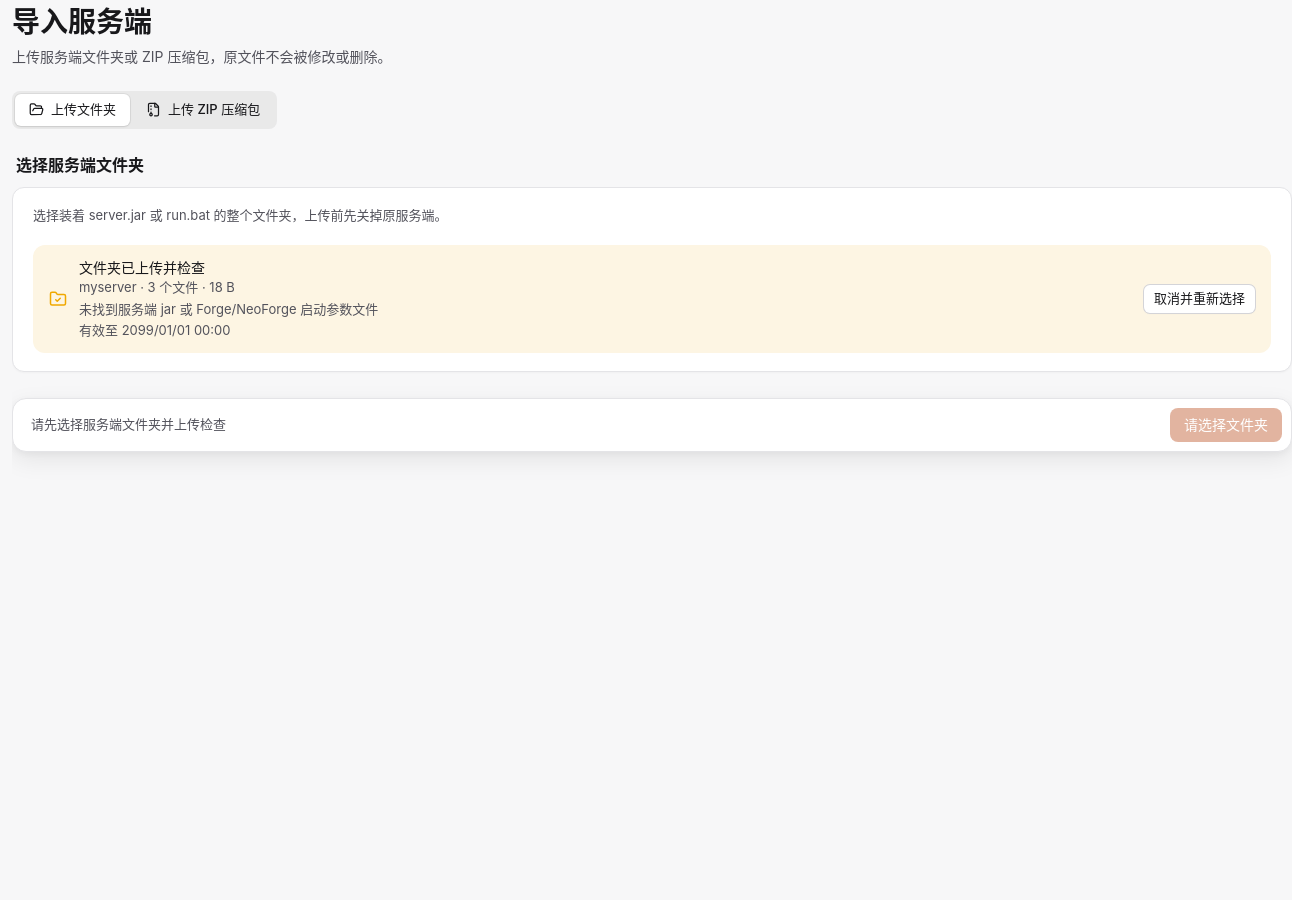
Scenario: a folder without a launch file: shows the reason, no import settings appear, and another can be chosen
Expected: the text "文件夹已上传并检查" is shown, 79,259 -> 205,276
Expected: the text "未找到服务端 jar 或 Forge/NeoForge 启动参数文件" is shown, 79,301 -> 378,317
Click the button "取消并重新选择" at {"x": 1200, "y": 299}, box 1144,285 -> 1255,313
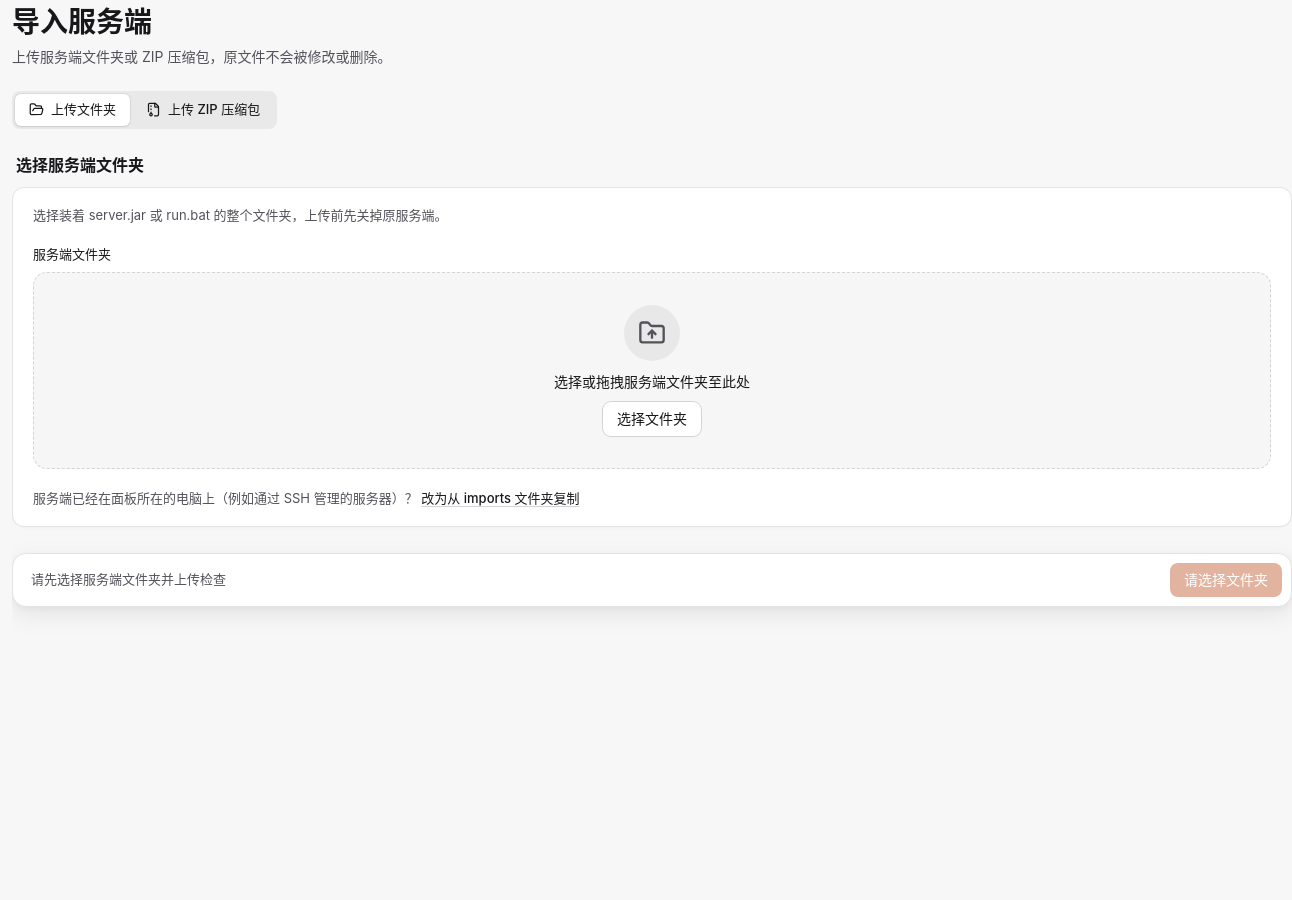
Now the button "选择文件夹" is shown, box 603,402 -> 701,436
